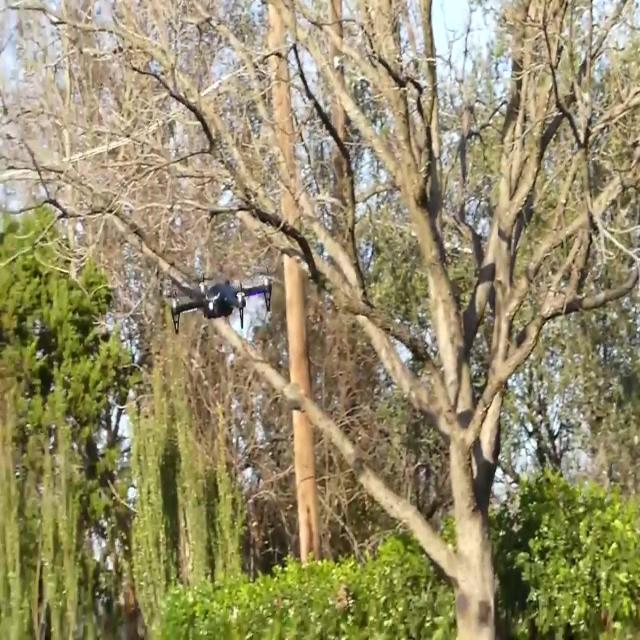drone: (164, 271, 279, 331)
